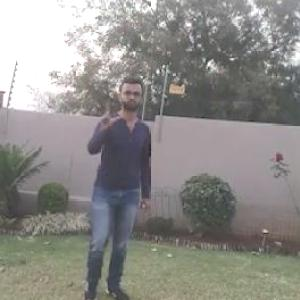land_hand: (94, 92, 124, 131)
